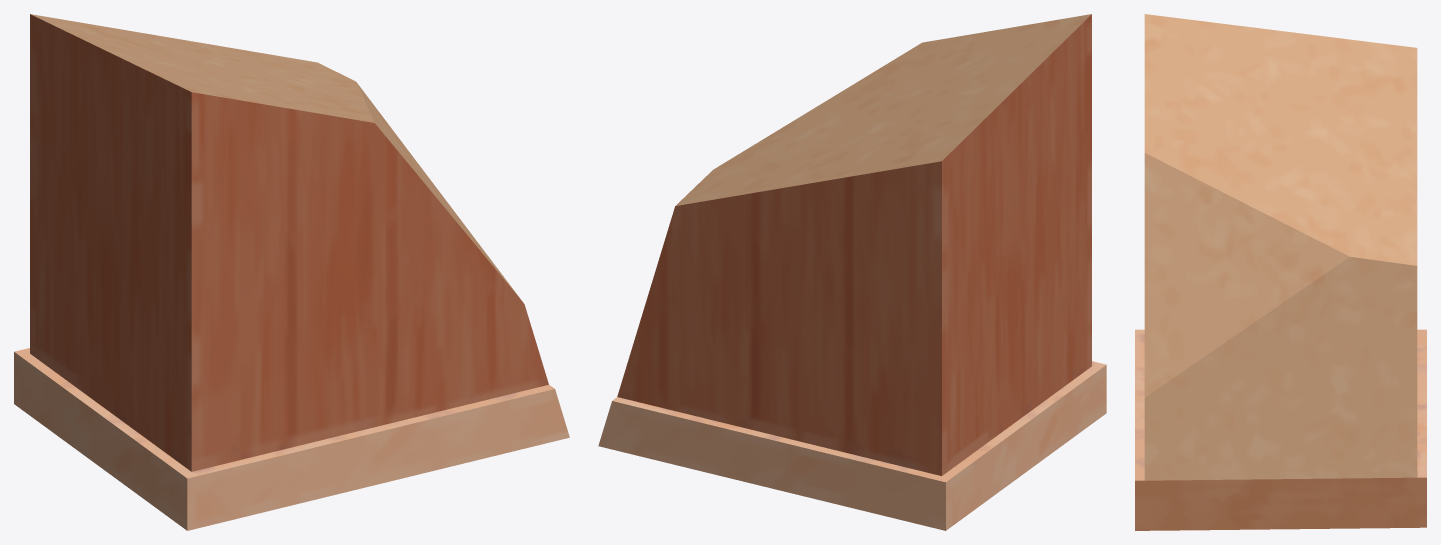
File: counter_s03.fbx
The picture shows the model from 3 angles, left to right: view 1: azimuth 30°, elevation 25°; view 2: azimuth 150°, elevation 25°; view 3: azimuth 270°, elevation 25°; orthographic projection. The views are drawn at different scales.
Visible parts, largest first — view 1: counter_s03; view 2: counter_s03; view 3: counter_s03.
Part boxes in pixels (box(x1,y1,x2,y2)): counter_s03: box(14, 14, 569, 530); counter_s03: box(598, 14, 1106, 530); counter_s03: box(1135, 14, 1426, 530).
Size of the model in its own units: 1.91 by 2.06 by 1.5.
